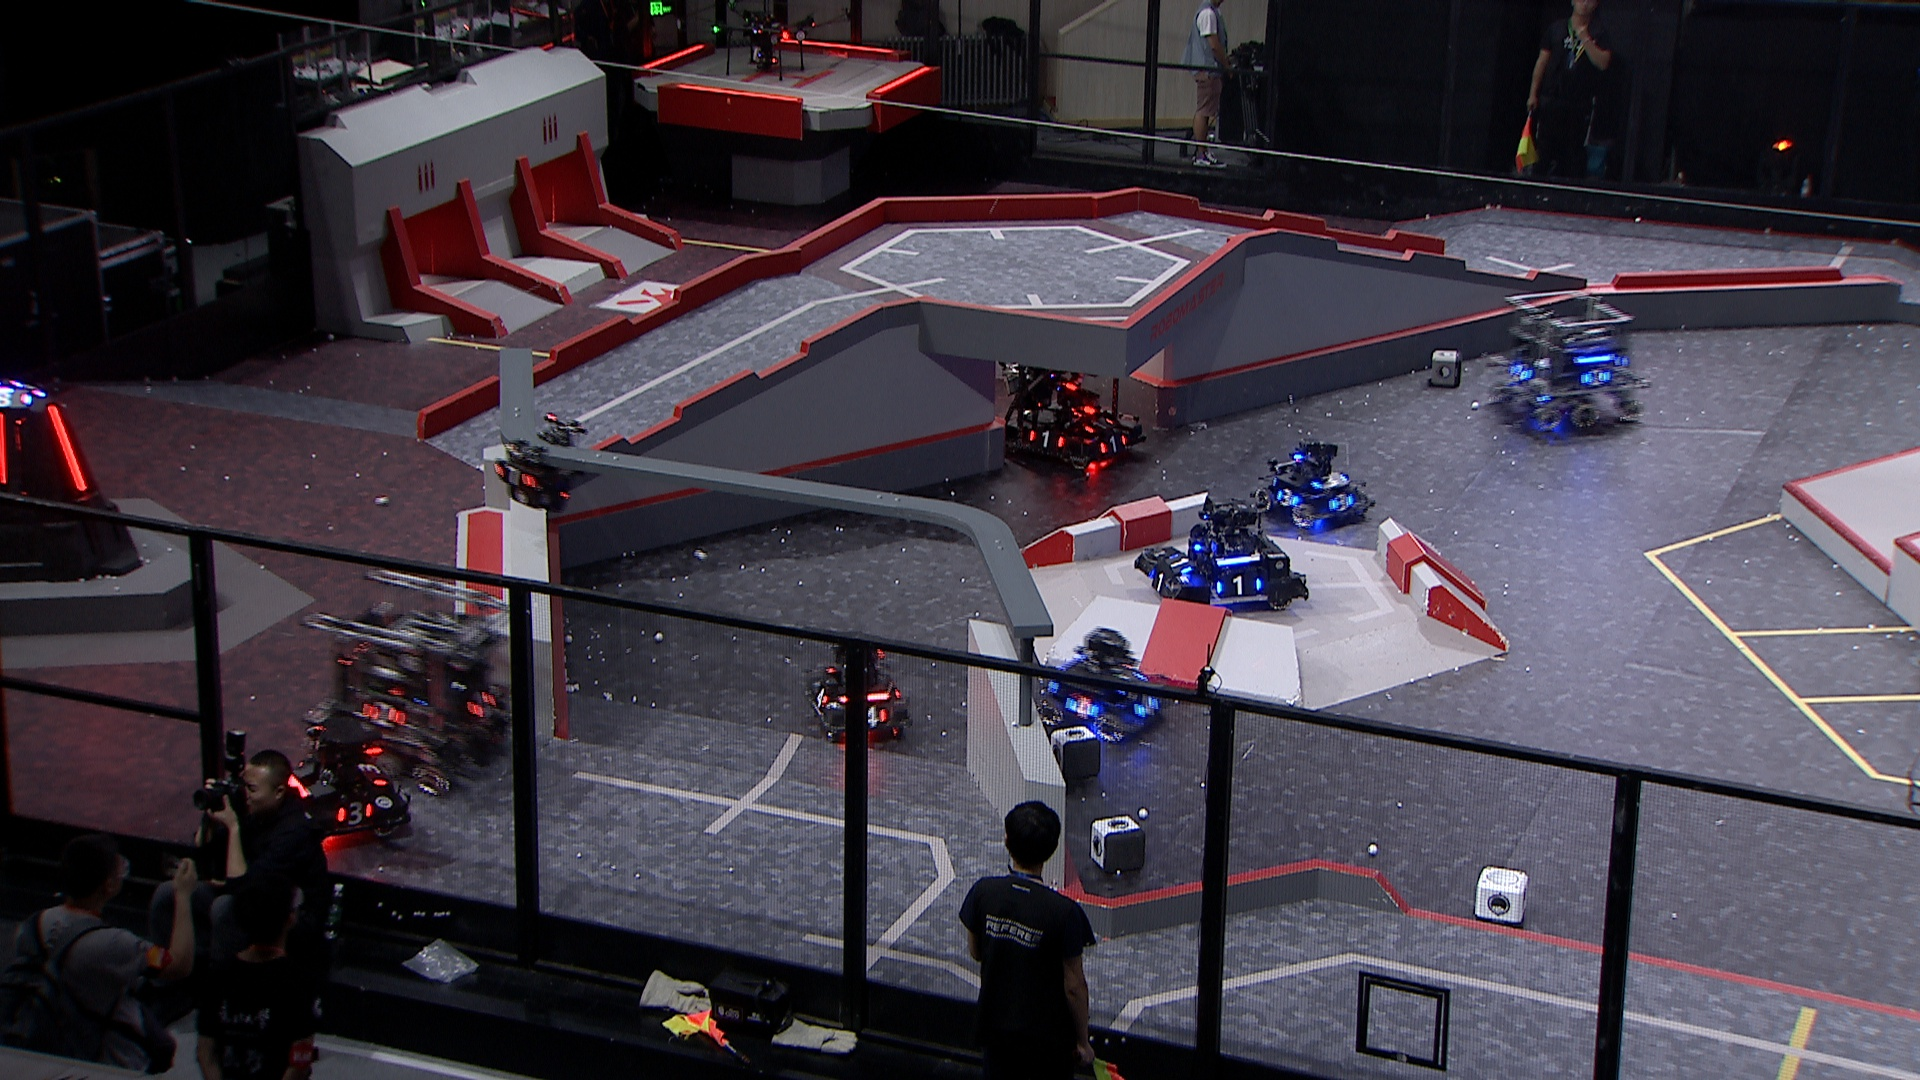armor: (45, 404, 95, 495), (330, 799, 375, 832), (1212, 572, 1266, 599), (361, 702, 406, 731), (489, 465, 537, 489), (353, 760, 390, 789), (1025, 429, 1068, 452), (465, 690, 498, 717), (1578, 367, 1611, 390), (1063, 698, 1098, 719), (1095, 434, 1129, 455), (1509, 361, 1538, 384), (1309, 473, 1346, 491), (862, 707, 889, 731), (1167, 553, 1193, 576), (1147, 568, 1168, 597), (1081, 417, 1116, 433), (1327, 493, 1352, 514), (1135, 698, 1162, 717), (1276, 488, 1299, 508), (812, 687, 829, 709)
car: (301, 566, 526, 796), (1486, 289, 1650, 433), (1133, 495, 1311, 618), (994, 334, 1145, 480), (264, 727, 414, 849), (1038, 626, 1174, 745), (800, 636, 915, 746), (1250, 436, 1378, 531)
watcher: (480, 413, 589, 517)
